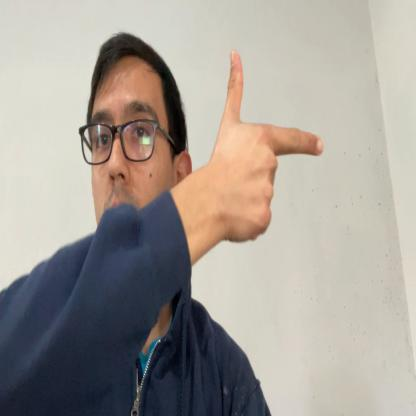G: (214, 47, 323, 243)
